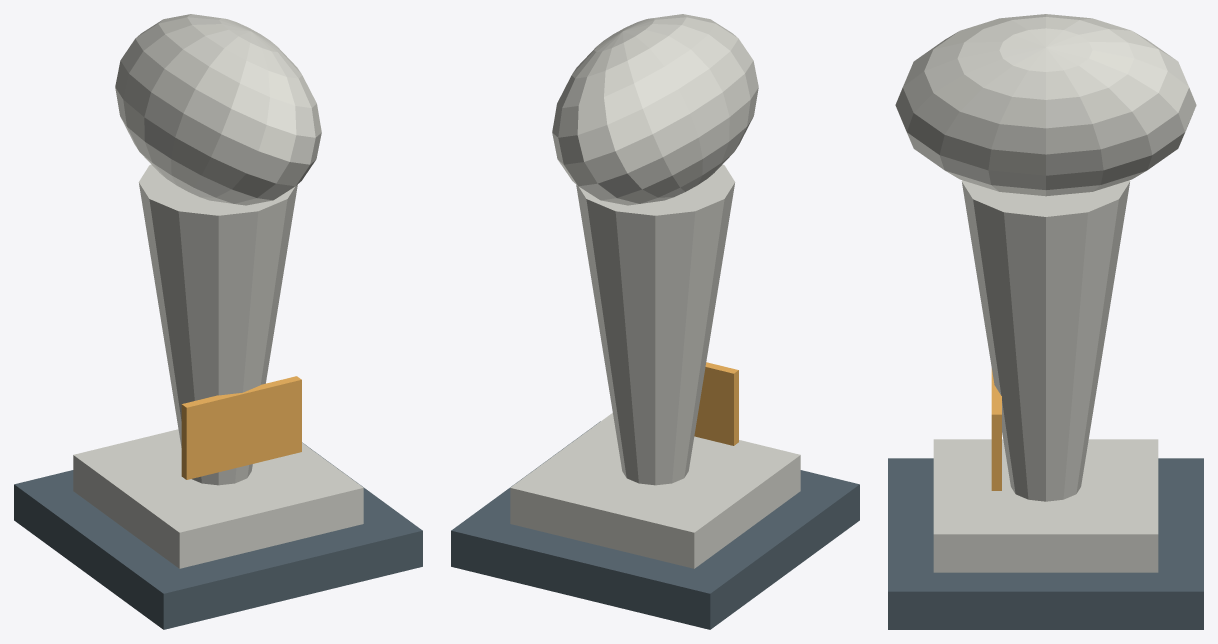
The model's file is american-football-stadium-kit-championship-trophy-6989e4ff.glb.
The picture shows the model from 3 angles, left to right: view 1: azimuth 30°, elevation 25°; view 2: azimuth 150°, elevation 25°; view 3: azimuth 270°, elevation 25°; orthographic projection. The views are drawn at different scales.
Visible parts, largest first — view 1: championship-trophy; view 2: championship-trophy; view 3: championship-trophy.
Part boxes in pixels (<box>): championship-trophy: <box>14,14,422,629</box>; championship-trophy: <box>451,14,859,629</box>; championship-trophy: <box>888,14,1203,629</box>.
Size of the model in its own units: 0.45 by 0.8488 by 0.45.
